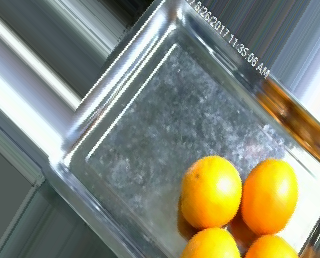Orange: (179, 154, 242, 229), (242, 156, 299, 235)
